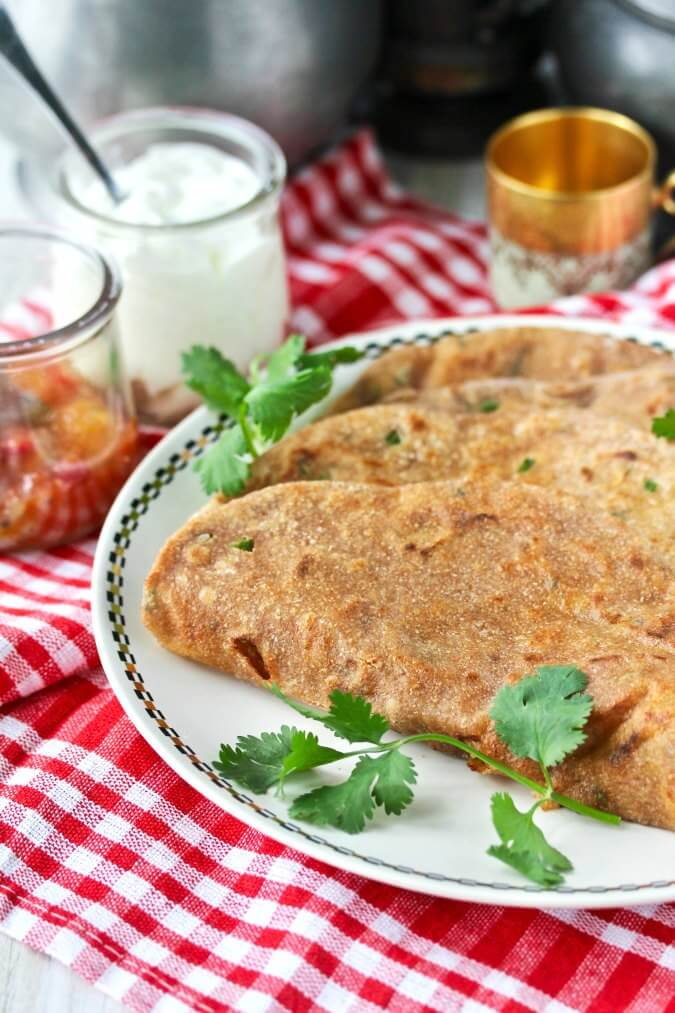aloo_paratha: (147, 319, 671, 839)
